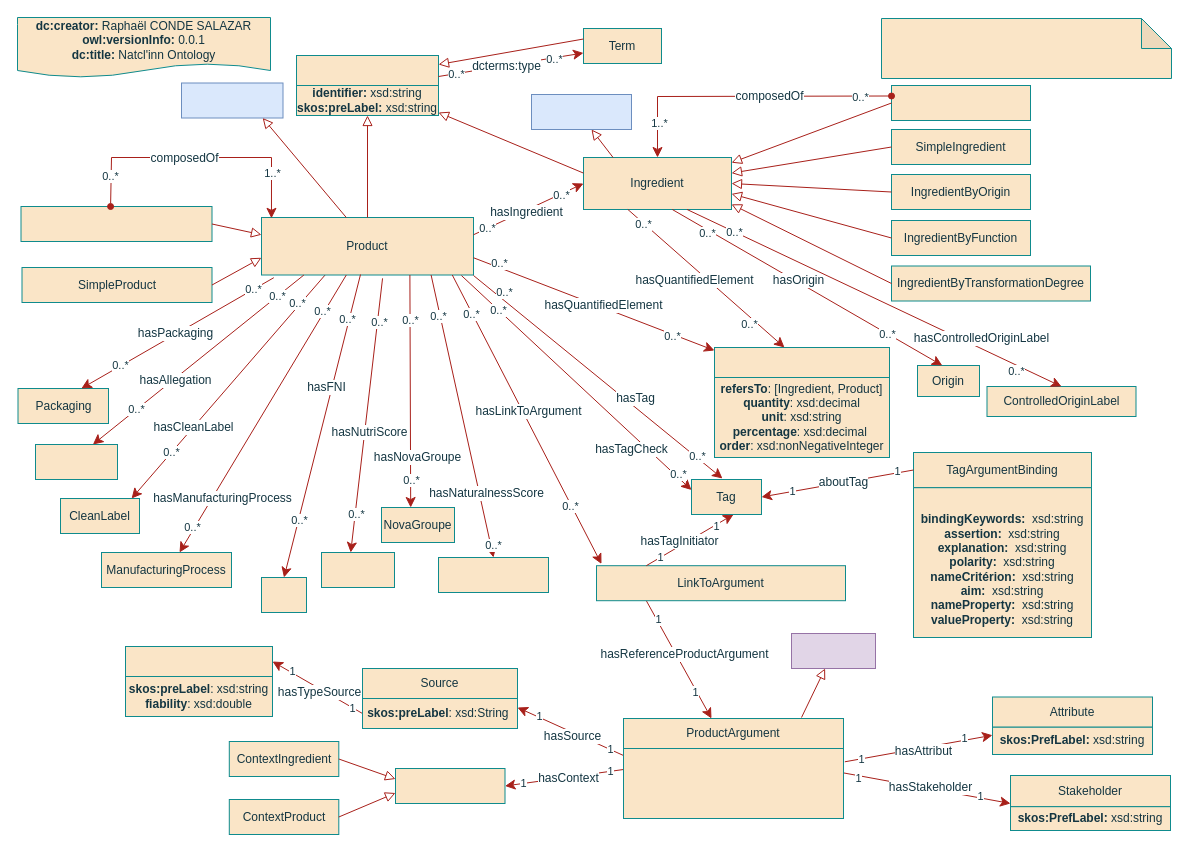
This 1189x858 diagram has some shape labels left out. Each missing label, with the centre of its shape:
aif:Node: the point at 833,650
Allegation: the point at 76,462
base : https://w3id.org/NCL/ontology/ other: http://other.namespace.com: the point at 1026,48
CompositeIngredient: the point at 960,102
CompositeProduct: the point at 116,224
Context: the point at 449,786
description: xsd:string verbatim: xsd:string: the point at 733,783
FNI: the point at 283,594
food ingredient: the point at 581,112
NaturalnessScore: the point at 493,574
NutriScore: the point at 357,570
processed food: the point at 231,100
QuantifiedElement: the point at 802,362
Ressource: the point at 367,70
TypeSource: the point at 198,661
